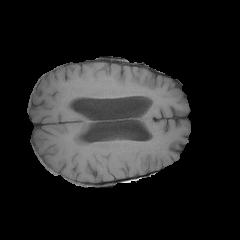glioma: (63, 79, 152, 105)
